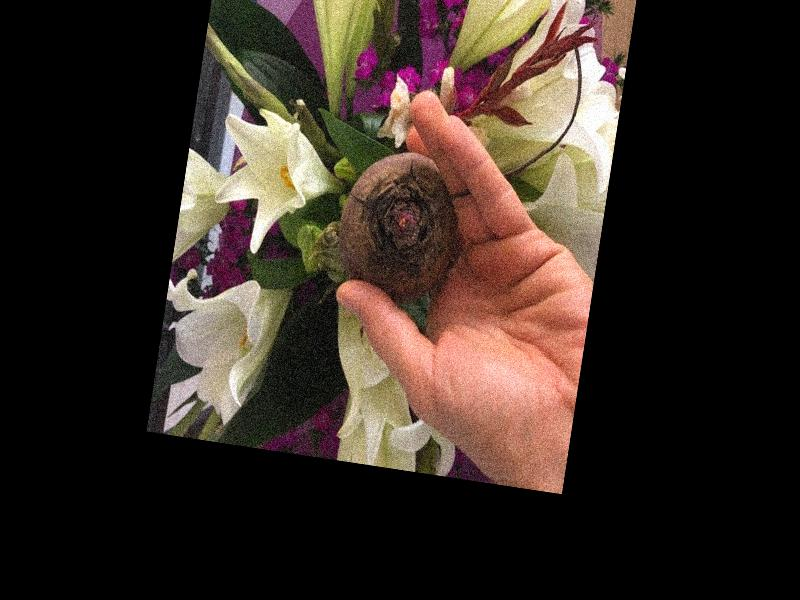Beet: (329, 140, 471, 307)
